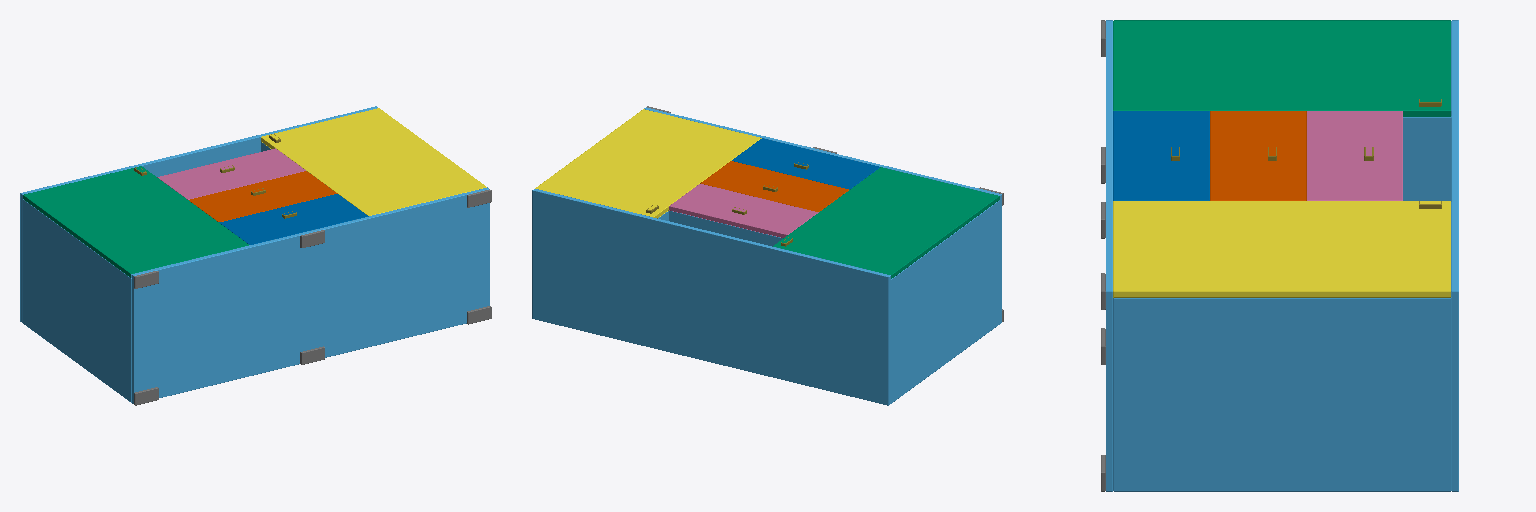
robot.urdf — 615:
<robot name="615">


	<link name="0:virtual">
		<visual>
			<origin xyz="0.0 0.0 0.0" rpy="0 0 0"/>
			<geometry>
				<cylinder length="0" radius="0"/>
			</geometry>
		</visual>
	</link>


	<link name="1:static">
		<visual>
			<origin xyz="-0.0 -0.0 -0.0" rpy="0 0 0"/>
			<geometry>
				<mesh filename="../raw_data/615/part_meshes/1.dae" />
			</geometry>
		</visual>
	</link>


	<link name="2:cabinet door 1">
		<visual>
			<origin xyz="0.6800000071525574 -0.3850002149119973 -0.22173750400543213" rpy="0 0 0"/>
			<geometry>
				<mesh filename="../raw_data/615/part_meshes/2.dae" />
			</geometry>
		</visual>
	</link>


	<link name="3:cabinet door 2">
		<visual>
			<origin xyz="-0.6826670018434524 -0.3850002149119973 -0.21347500383853912" rpy="0 0 0"/>
			<geometry>
				<mesh filename="../raw_data/615/part_meshes/3.dae" />
			</geometry>
		</visual>
	</link>


	<link name="4:drawer 2">
		<visual>
			<origin xyz="-0.0 -0.12883399799466133 -0.0030025020241737366" rpy="0 0 0"/>
			<geometry>
				<mesh filename="../raw_data/615/part_meshes/4.dae" />
			</geometry>
		</visual>
	</link>


	<link name="5:drawer 3">
		<visual>
			<origin xyz="-0.0 -0.334196500480175 -0.0030025020241737366" rpy="0 0 0"/>
			<geometry>
				<mesh filename="../raw_data/615/part_meshes/5.dae" />
			</geometry>
		</visual>
	</link>


	<link name="6:drawer 4">
		<visual>
			<origin xyz="-0.0 -0.5390769988298416 -0.0030025020241737366" rpy="0 0 0"/>
			<geometry>
				<mesh filename="../raw_data/615/part_meshes/6.dae" />
			</geometry>
		</visual>
	</link>


	<joint name="0:virtual::1:static" type="fixed">
		<parent link="0:virtual"/>
		<child link="1:static"/>
		<origin xyz="0.0 0.0 0.0" rpy="0 0 0"/>
	</joint>


	<joint name="0:virtual::2:cabinet door 1_rotation" type="revolute">
		<parent link="0:virtual"/>
		<child link="2:cabinet door 1"/>
		<origin xyz="-0.6800000071525574 0.3850002149119973 0.22173750400543213" rpy="0 0 0"/>
		<limit lower="-1.9792033717615696" upper="0.0" effort="10" velocity="3"/>
		<axis xyz="0.0 1.0 0.0"/>
	</joint>


	<joint name="0:virtual::3:cabinet door 2_rotation" type="revolute">
		<parent link="0:virtual"/>
		<child link="3:cabinet door 2"/>
		<origin xyz="0.6826670018434524 0.3850002149119973 0.21347500383853912" rpy="0 0 0"/>
		<limit lower="0.0" upper="2.1362830044410597" effort="10" velocity="3"/>
		<axis xyz="0.0 1.0 0.0"/>
	</joint>


	<joint name="0:virtual::4:drawer 2_translation" type="prismatic">
		<parent link="0:virtual"/>
		<child link="4:drawer 2"/>
		<origin xyz="0.0 0.12883399799466133 0.0030025020241737366" rpy="0 0 0"/>
		<limit lower="0.0" upper="0.364316996634007" effort="10" velocity="3"/>
		<axis xyz="0.0 0.0 1.0"/>
	</joint>


	<joint name="0:virtual::5:drawer 3_translation" type="prismatic">
		<parent link="0:virtual"/>
		<child link="5:drawer 3"/>
		<origin xyz="0.0 0.334196500480175 0.0030025020241737366" rpy="0 0 0"/>
		<limit lower="0.0" upper="0.364316996634007" effort="10" velocity="3"/>
		<axis xyz="0.0 0.0 1.0"/>
	</joint>


	<joint name="0:virtual::6:drawer 4_translation" type="prismatic">
		<parent link="0:virtual"/>
		<child link="6:drawer 4"/>
		<origin xyz="0.0 0.5390769988298416 0.0030025020241737366" rpy="0 0 0"/>
		<limit lower="0.0" upper="0.364316996634007" effort="10" velocity="3"/>
		<axis xyz="0.0 0.0 1.0"/>
	</joint>


</robot>

--- What the picture shows (computed from the rendered views, not written in the file) ---
Views: 3 orthographic renders of the robot side by side, from view 1: azimuth 30°, elevation 25°; view 2: azimuth 150°, elevation 25°; view 3: azimuth 270°, elevation 25°.
Model 615 with 7 links and 6 joints (2 revolute, 3 prismatic, 1 fixed), rooted at 0:virtual, posed every joint at zero.
Visible links, largest first — view 1: 1:static, 2:cabinet door 1, 3:cabinet door 2, 4:drawer 2, 5:drawer 3, 6:drawer 4; view 2: 1:static, 2:cabinet door 1, 3:cabinet door 2, 6:drawer 4, 4:drawer 2, 5:drawer 3; view 3: 1:static, 3:cabinet door 2, 2:cabinet door 1, 4:drawer 2, 5:drawer 3, 6:drawer 4.
Boxes of the visible links, left/top/right/bottom form: 1:static: left=20, top=106, right=491, bottom=405; 2:cabinet door 1: left=23, top=166, right=248, bottom=277; 3:cabinet door 2: left=261, top=108, right=486, bottom=215; 4:drawer 2: left=219, top=194, right=368, bottom=244; 5:drawer 3: left=189, top=171, right=337, bottom=221; 6:drawer 4: left=157, top=148, right=305, bottom=199; 1:static: left=532, top=106, right=1003, bottom=405; 2:cabinet door 1: left=773, top=167, right=999, bottom=278; 3:cabinet door 2: left=535, top=109, right=761, bottom=218; 6:drawer 4: left=669, top=184, right=818, bottom=237; 4:drawer 2: left=732, top=138, right=879, bottom=189; 5:drawer 3: left=700, top=161, right=848, bottom=211; 1:static: left=1101, top=20, right=1458, bottom=491; 3:cabinet door 2: left=1113, top=201, right=1450, bottom=297; 2:cabinet door 1: left=1113, top=20, right=1450, bottom=116; 4:drawer 2: left=1113, top=111, right=1209, bottom=200; 5:drawer 3: left=1210, top=111, right=1306, bottom=200; 6:drawer 4: left=1307, top=111, right=1402, bottom=200.
Size in the robot's own frame: 1.36 by 0.76 by 0.48 metres.
6 mesh visuals loaded from 6 distinct referenced files (6 Collada DAE).